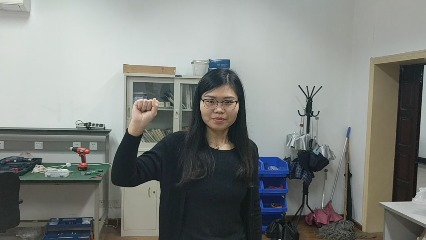fist: (130, 97, 161, 125)
